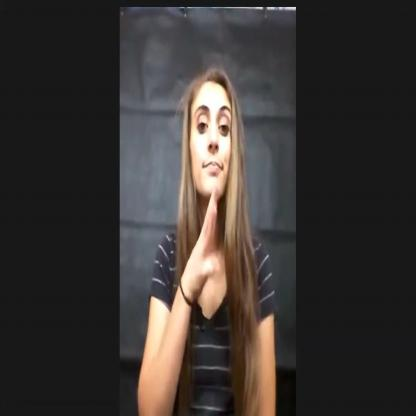Talk: (179, 70, 264, 298)
